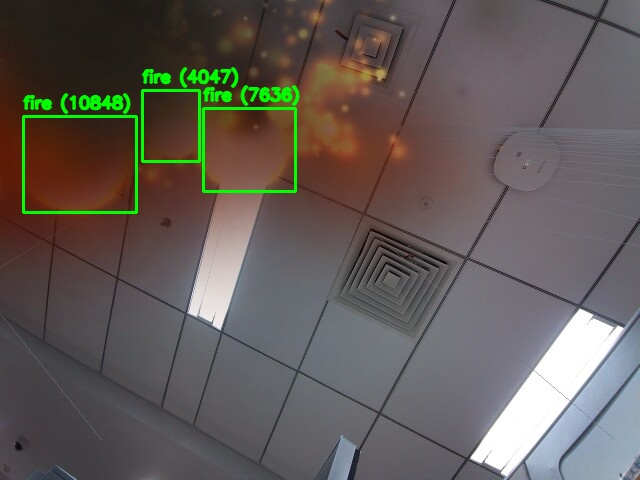fire: (23, 116, 136, 212), (203, 108, 295, 191), (142, 90, 199, 161)
